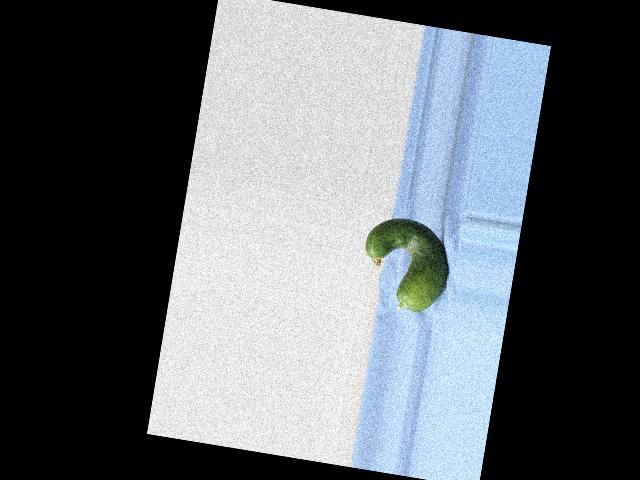cucumber: (356, 213, 455, 316)
